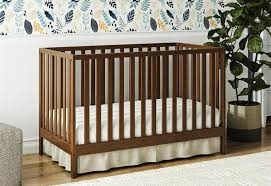crib: (39, 43, 225, 177)
